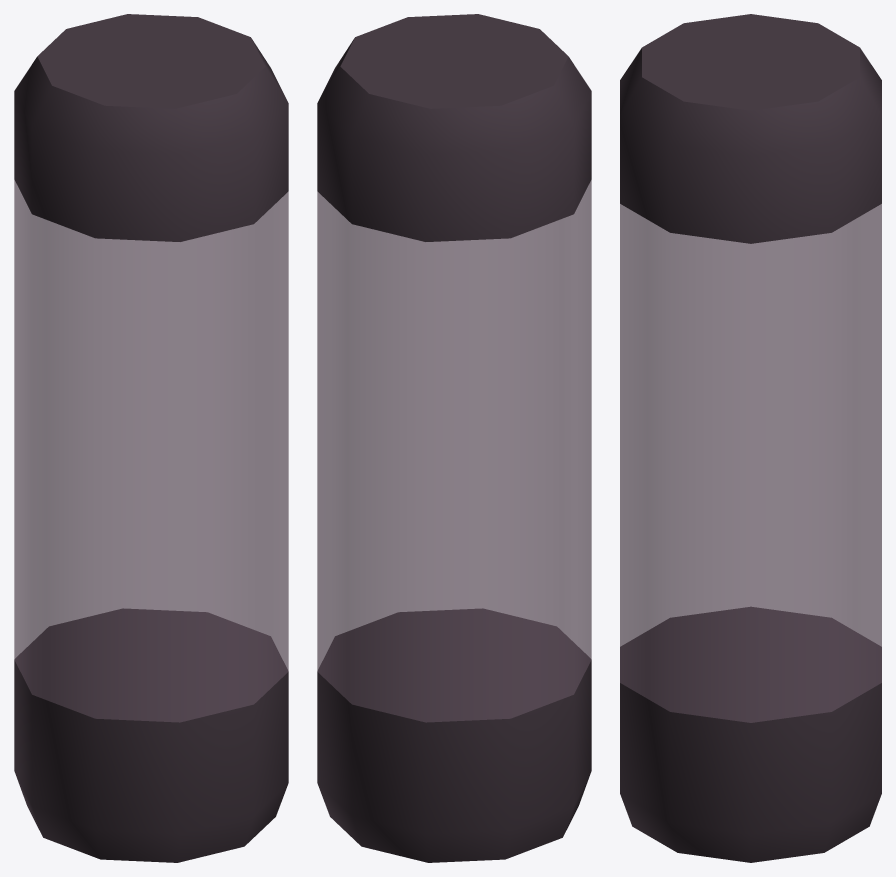
Rendered from Prop_sci_cyl1.FBX.
3 views of the same model, side by side, from view 1: azimuth 30°, elevation 25°; view 2: azimuth 150°, elevation 25°; view 3: azimuth 270°, elevation 25° (orthographic).
Visible parts, largest first — view 1: Prop_sci_cyl1; view 2: Prop_sci_cyl1; view 3: Prop_sci_cyl1.
Boxes of the visible parts, bbox=[...] form: Prop_sci_cyl1: bbox=[14, 14, 288, 862]; Prop_sci_cyl1: bbox=[317, 14, 591, 862]; Prop_sci_cyl1: bbox=[620, 14, 881, 862].
Bounding box in the file's own units: 3.07 × 9.22 × 2.92.
